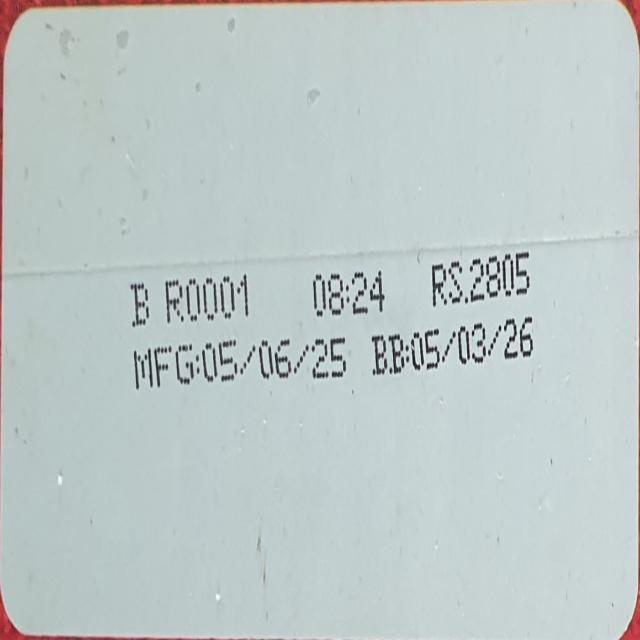BB: (370, 318, 546, 382)
Batch: (129, 265, 255, 332)
MFG: (133, 335, 360, 397)
RS: (425, 253, 540, 308)
TimeStamp: (300, 258, 393, 329)
